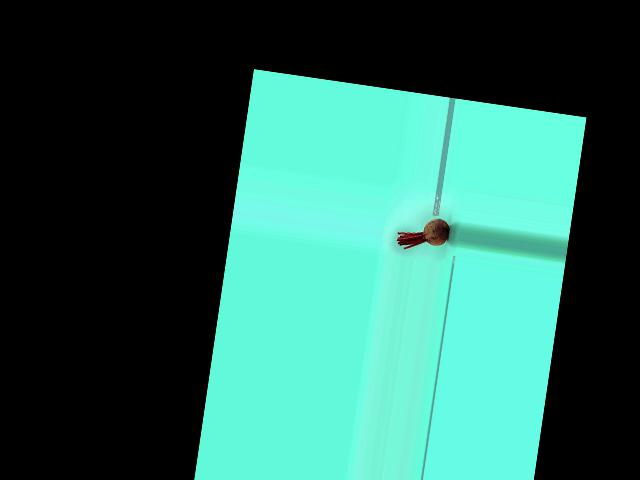beet: (396, 212, 450, 254)
